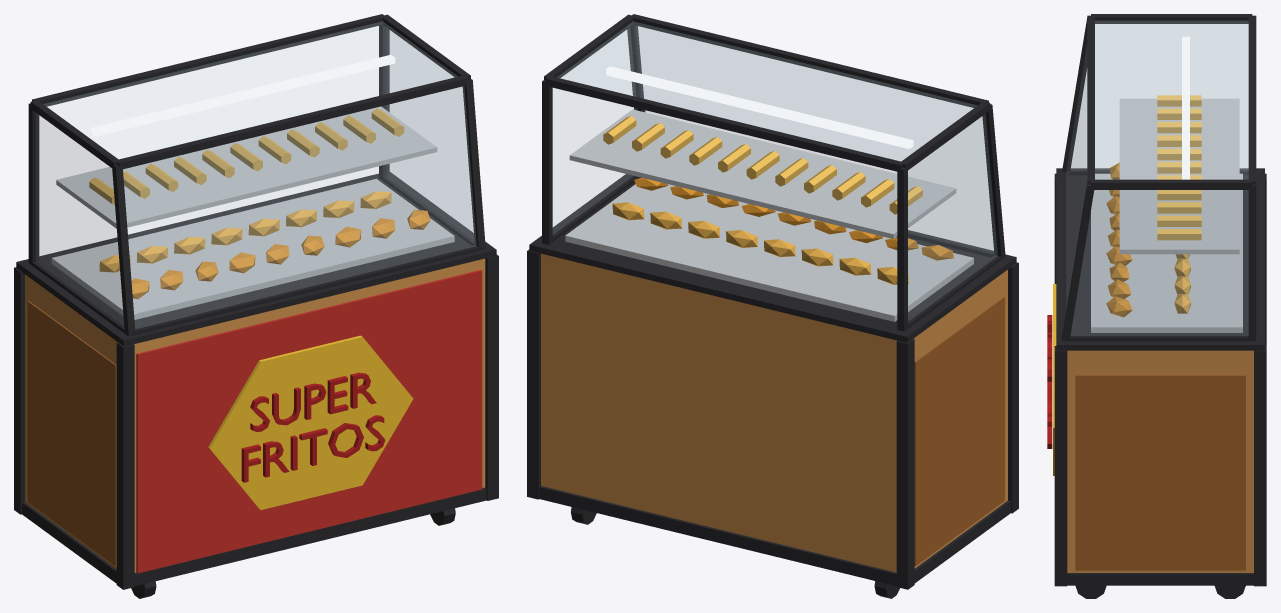
The model's file is vitrina-super-fritos.glb.
The picture shows the model from 3 angles, left to right: view 1: azimuth 30°, elevation 25°; view 2: azimuth 150°, elevation 25°; view 3: azimuth 270°, elevation 25°; orthographic projection. The views are drawn at different scales.
Visible parts, largest first — view 1: SuperFritos_Vidrio, SuperFritos_Rojo, SuperFritos_Marco, SuperFritos_Bandeja, SuperFritos_Amarillo, SuperFritos_MaderaOsc, SuperFritos_Madera, SuperFritos_Letras, SuperFritos_Dedito, SuperFritos_Caribanola, SuperFritos_Empanada, SuperFritos_Luz; view 2: SuperFritos_Madera, SuperFritos_Marco, SuperFritos_Vidrio, SuperFritos_Bandeja, SuperFritos_MaderaOsc, SuperFritos_Dedito, SuperFritos_Caribanola, SuperFritos_Luz, SuperFritos_Empanada; view 3: SuperFritos_Vidrio, SuperFritos_MaderaOsc, SuperFritos_Marco, SuperFritos_Bandeja, SuperFritos_Madera, SuperFritos_Dedito, SuperFritos_Empanada, SuperFritos_Luz, SuperFritos_Caribanola, SuperFritos_Letras, SuperFritos_Amarillo.
Boxes of the visible parts, <box> form: SuperFritos_Vidrio: <box>36,22,475,328</box>; SuperFritos_Rojo: <box>136,270,482,573</box>; SuperFritos_Marco: <box>14,14,498,598</box>; SuperFritos_Bandeja: <box>51,106,454,319</box>; SuperFritos_Amarillo: <box>208,335,413,509</box>; SuperFritos_MaderaOsc: <box>27,301,116,566</box>; SuperFritos_Madera: <box>25,258,485,572</box>; SuperFritos_Letras: <box>241,372,385,482</box>; SuperFritos_Dedito: <box>89,108,404,204</box>; SuperFritos_Caribanola: <box>99,191,391,272</box>; SuperFritos_Empanada: <box>131,209,430,298</box>; SuperFritos_Luz: <box>91,54,395,136</box>; SuperFritos_Madera: <box>541,253,1007,572</box>; SuperFritos_Marco: <box>527,14,1018,598</box>; SuperFritos_Vidrio: <box>553,22,997,320</box>; SuperFritos_Bandeja: <box>565,109,973,321</box>; SuperFritos_MaderaOsc: <box>914,296,1004,565</box>; SuperFritos_Dedito: <box>603,116,922,214</box>; SuperFritos_Caribanola: <box>612,202,908,284</box>; SuperFritos_Luz: <box>606,66,913,149</box>; SuperFritos_Empanada: <box>634,177,953,260</box>; SuperFritos_Vidrio: <box>1067,21,1248,335</box>; SuperFritos_MaderaOsc: <box>1075,375,1245,570</box>; SuperFritos_Marco: <box>1054,14,1266,598</box>; SuperFritos_Bandeja: <box>1091,98,1242,332</box>; SuperFritos_Madera: <box>1067,350,1253,572</box>; SuperFritos_Dedito: <box>1157,95,1201,240</box>; SuperFritos_Empanada: <box>1106,162,1132,317</box>; SuperFritos_Luz: <box>1182,36,1189,179</box>; SuperFritos_Caribanola: <box>1174,254,1190,313</box>; SuperFritos_Letras: <box>1047,315,1052,448</box>; SuperFritos_Amarillo: <box>1053,284,1056,475</box>.
Bounding box in the file's own units: 1.33 × 1.49 × 0.6931.
